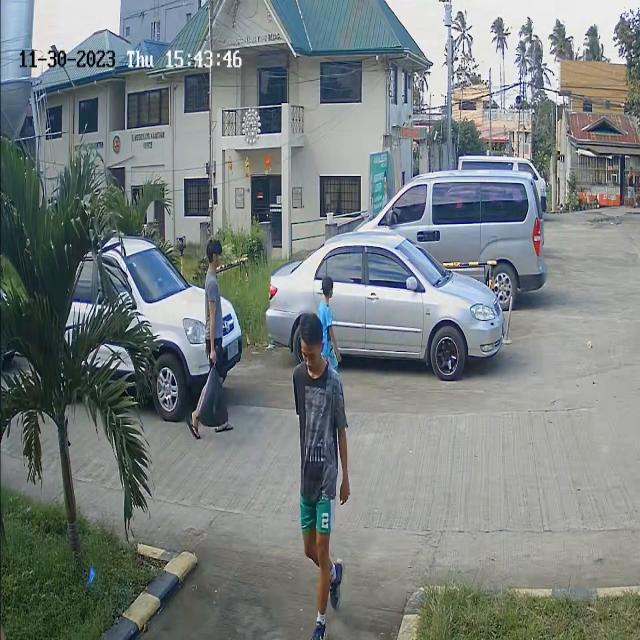garbage: (194, 369, 231, 430)
person: (294, 316, 339, 493), (198, 232, 235, 357), (316, 273, 341, 343)
